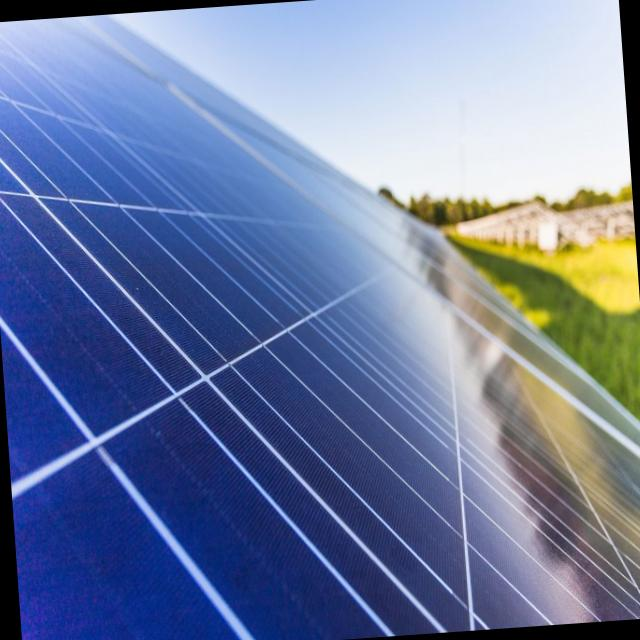no faulty: (0, 18, 640, 640)
